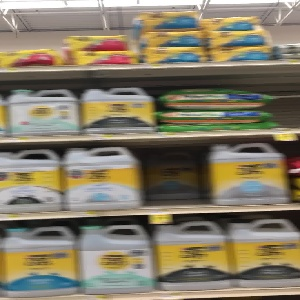void: (142, 136, 207, 211)
